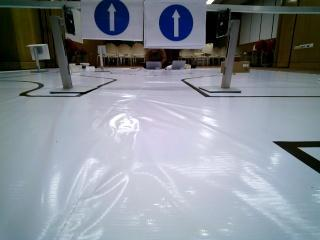straight: (143, 0, 204, 47), (79, 0, 142, 40)
